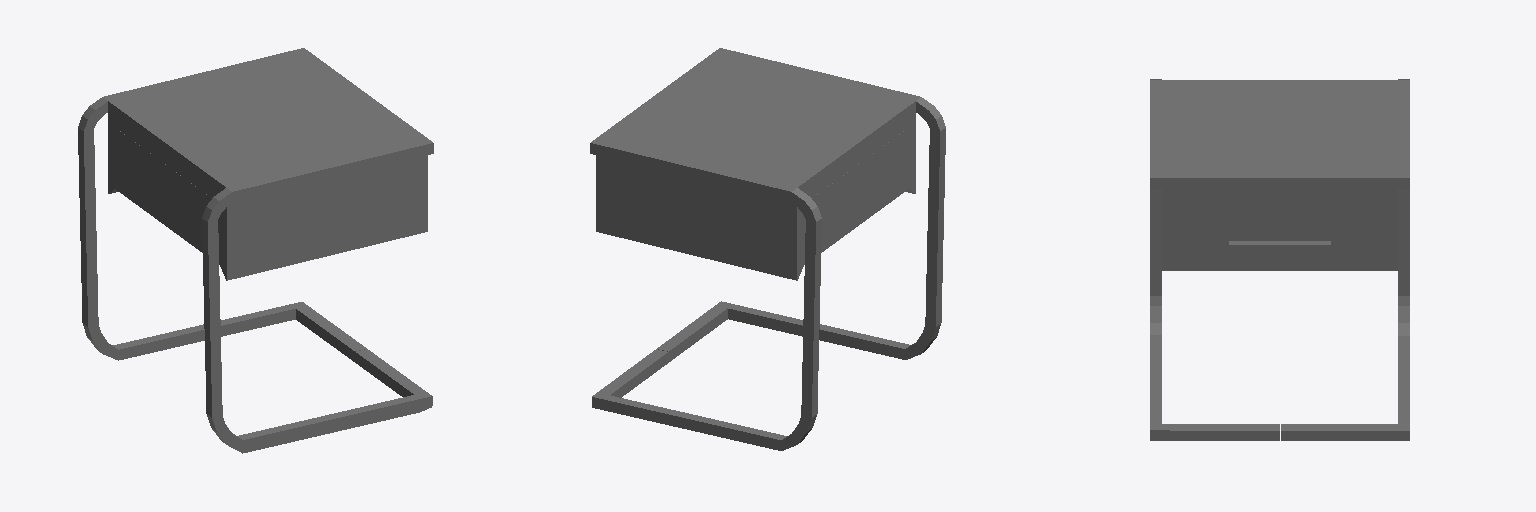
File: SideTable_Med.obj
The picture shows the model from 3 angles: view 1: azimuth 30°, elevation 25°; view 2: azimuth 150°, elevation 25°; view 3: azimuth 270°, elevation 25°; orthographic projection.
Visible parts, largest first — view 1: SideTable_Med2:pCube3; view 2: SideTable_Med2:pCube3; view 3: SideTable_Med2:pCube3.
Part boxes in pixels (left/top/right/bottom): SideTable_Med2:pCube3: left=78, top=48, right=433, bottom=453; SideTable_Med2:pCube3: left=590, top=48, right=945, bottom=450; SideTable_Med2:pCube3: left=1150, top=79, right=1409, bottom=440.
Bounding box in the file's own units: 2.9 × 3.26 × 2.88.